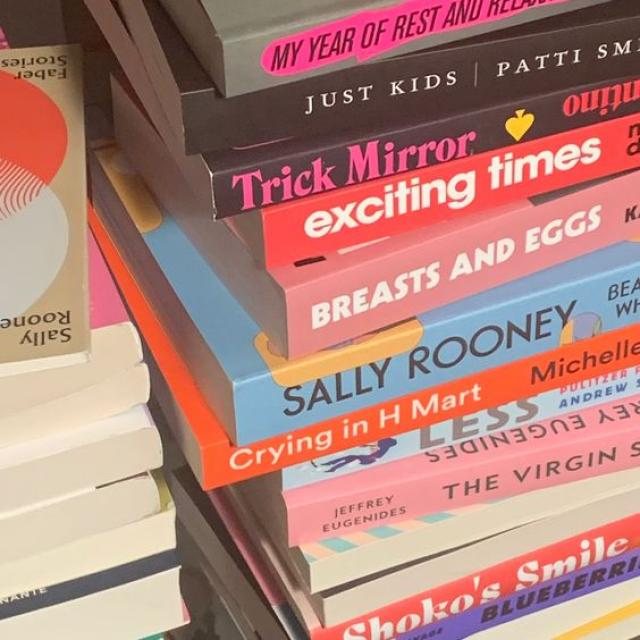book: (198, 320, 640, 495), (234, 265, 639, 445), (291, 170, 638, 359), (183, 16, 640, 153), (214, 78, 640, 219), (259, 110, 636, 268), (312, 492, 640, 632), (281, 367, 639, 492), (306, 464, 640, 597), (287, 424, 636, 544), (332, 513, 640, 640), (224, 0, 590, 90), (401, 552, 638, 640)
